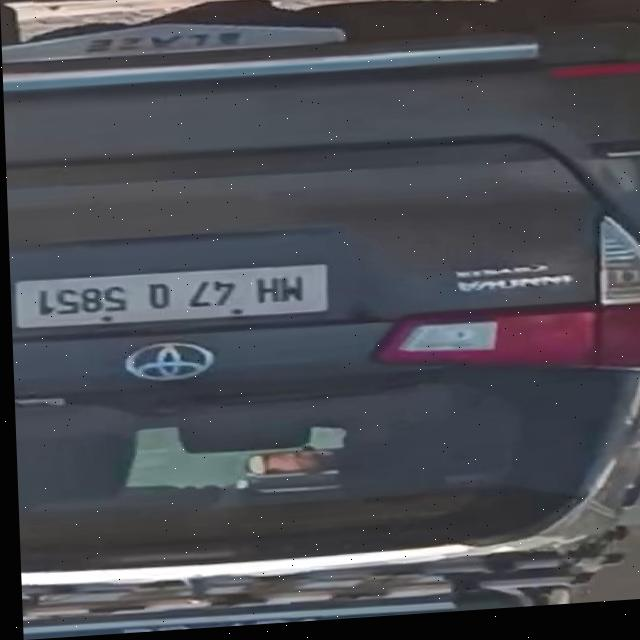plate: (8, 259, 342, 344)
